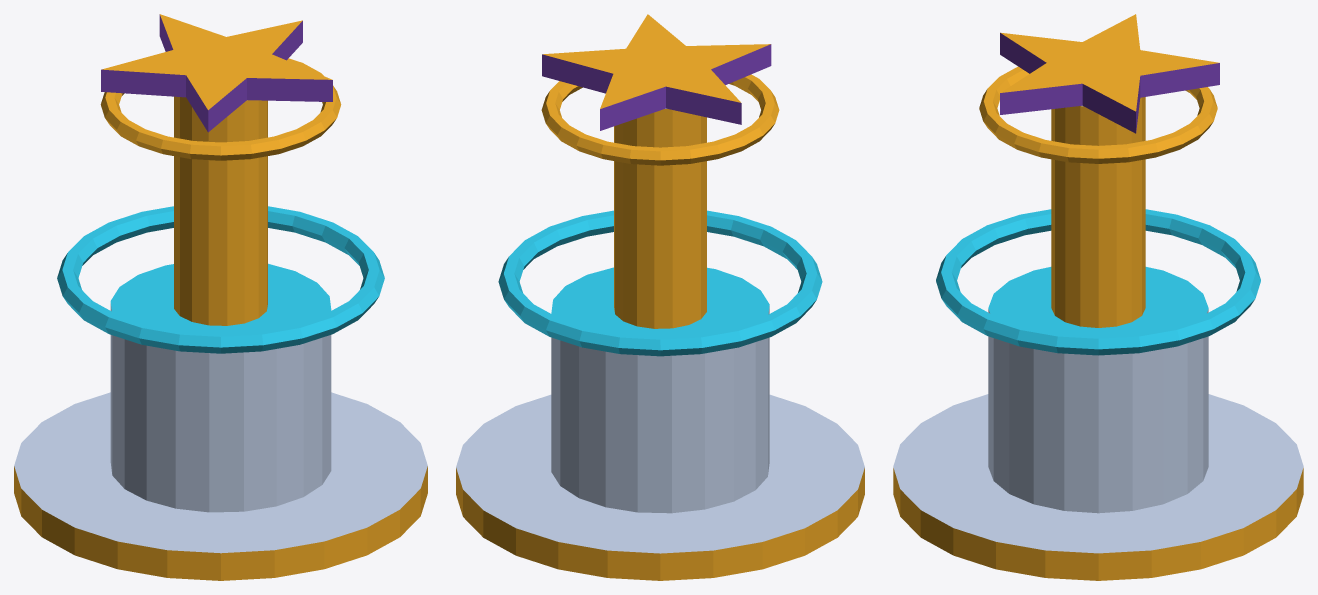
File: galaxy_beacon.obj
3 views of the same model, side by side, from view 1: azimuth 30°, elevation 25°; view 2: azimuth 150°, elevation 25°; view 3: azimuth 270°, elevation 25° (orthographic).
Visible parts, largest first — view 1: galaxy_beacon; view 2: galaxy_beacon; view 3: galaxy_beacon.
Boxes of the visible parts, left/top/right/bottom form: galaxy_beacon: left=14, top=14, right=427, bottom=580; galaxy_beacon: left=456, top=14, right=864, bottom=580; galaxy_beacon: left=893, top=14, right=1303, bottom=580.
Size of the model in its own units: 5.4 by 6.26 by 5.4.
